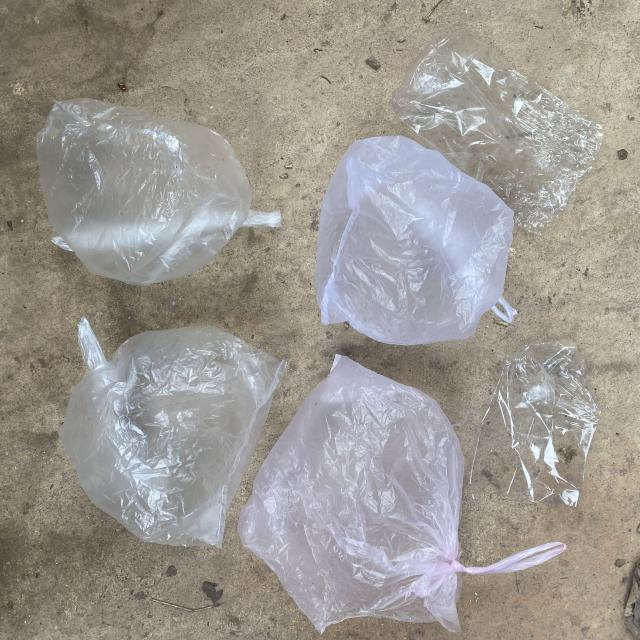Single-layer Plastic: (239, 356, 565, 632), (59, 319, 285, 548), (36, 99, 281, 285), (315, 136, 516, 345), (392, 34, 602, 234), (470, 342, 600, 506)
